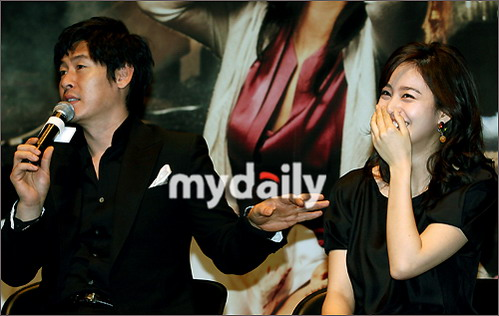face: (374, 62, 436, 150), (55, 40, 116, 120)
